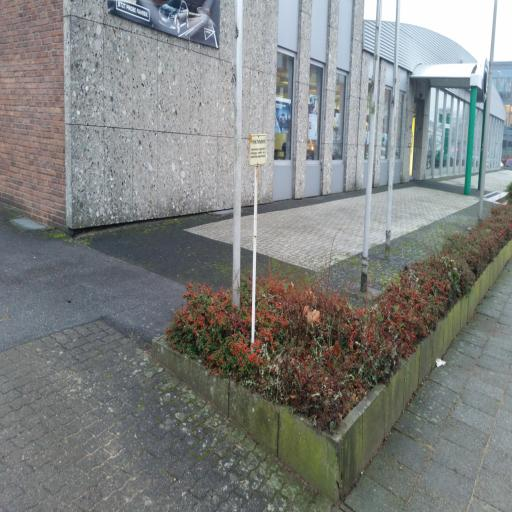ramp: (0, 315, 334, 512)
